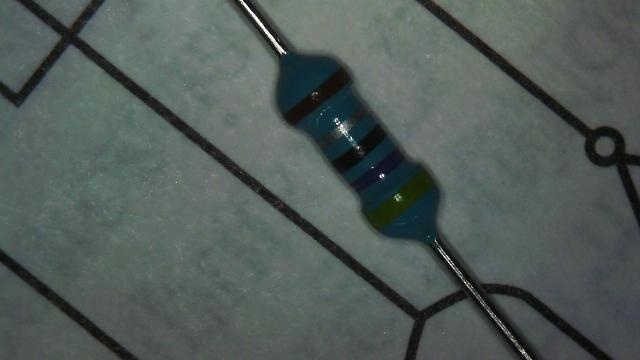black: (332, 124, 388, 173)
brown: (284, 68, 350, 124)
resistor: (261, 44, 448, 252)
silver: (318, 106, 368, 149)
violet: (352, 148, 405, 193)
yellow: (366, 168, 434, 228)
